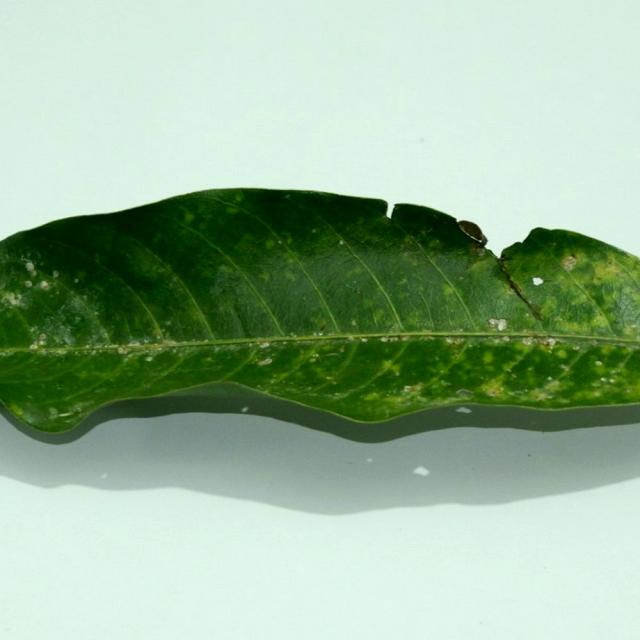Mango: (0, 189, 639, 436)
Powdery_Mildew: (19, 404, 47, 423), (464, 250, 487, 270), (527, 269, 546, 288), (378, 335, 418, 343), (486, 317, 507, 331), (527, 301, 544, 318), (561, 255, 577, 271), (470, 244, 487, 258), (5, 292, 22, 306), (530, 277, 555, 286), (402, 236, 420, 248), (22, 258, 36, 273), (537, 339, 555, 349), (72, 400, 87, 411), (404, 383, 422, 392), (454, 389, 474, 397), (446, 337, 466, 345), (499, 254, 515, 262), (258, 357, 272, 366), (486, 388, 500, 397), (56, 411, 76, 417), (257, 272, 269, 282), (48, 407, 59, 417), (308, 354, 319, 363), (456, 407, 472, 413), (39, 280, 49, 289), (626, 322, 637, 330), (317, 323, 326, 332), (324, 352, 340, 357), (312, 331, 325, 337), (603, 377, 616, 383), (258, 342, 270, 348), (313, 378, 321, 386), (561, 364, 570, 371), (326, 376, 335, 383), (52, 270, 59, 279), (389, 325, 398, 332), (570, 252, 577, 260), (588, 340, 599, 345), (30, 343, 39, 349), (39, 333, 46, 340), (25, 280, 32, 287), (145, 356, 153, 362), (241, 407, 249, 413), (572, 345, 580, 351), (351, 319, 357, 326), (165, 320, 172, 326), (595, 361, 603, 366), (339, 347, 345, 353), (525, 312, 531, 318), (284, 194, 291, 199), (506, 368, 512, 373), (607, 260, 613, 265), (395, 370, 400, 376), (458, 276, 464, 281), (635, 323, 640, 329), (39, 340, 45, 345), (339, 240, 344, 245), (74, 278, 79, 283), (278, 240, 282, 244)
